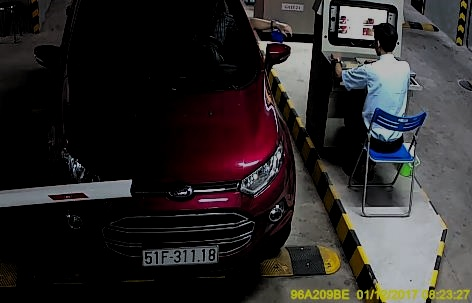plate: (144, 241, 222, 266)
